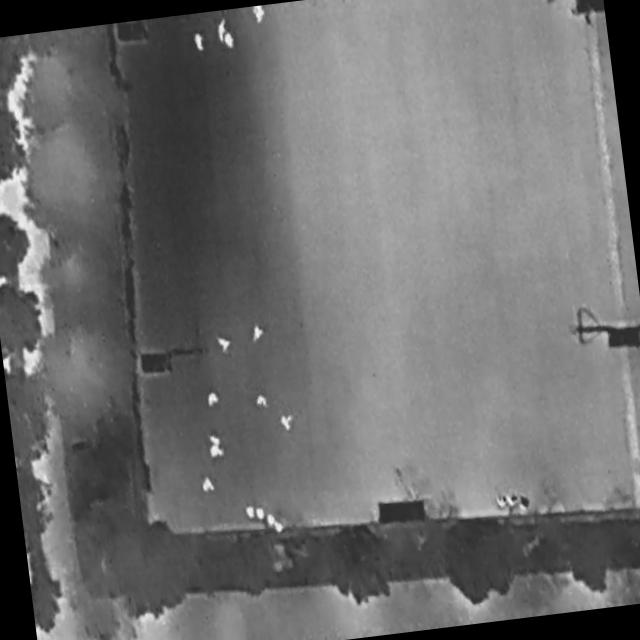person: (247, 322, 269, 350), (215, 16, 230, 46), (192, 28, 208, 55), (251, 5, 269, 26), (215, 335, 233, 354), (279, 413, 295, 434), (200, 475, 216, 496), (205, 391, 221, 410), (207, 432, 223, 449), (208, 444, 225, 460), (223, 32, 236, 51), (255, 395, 269, 410)
